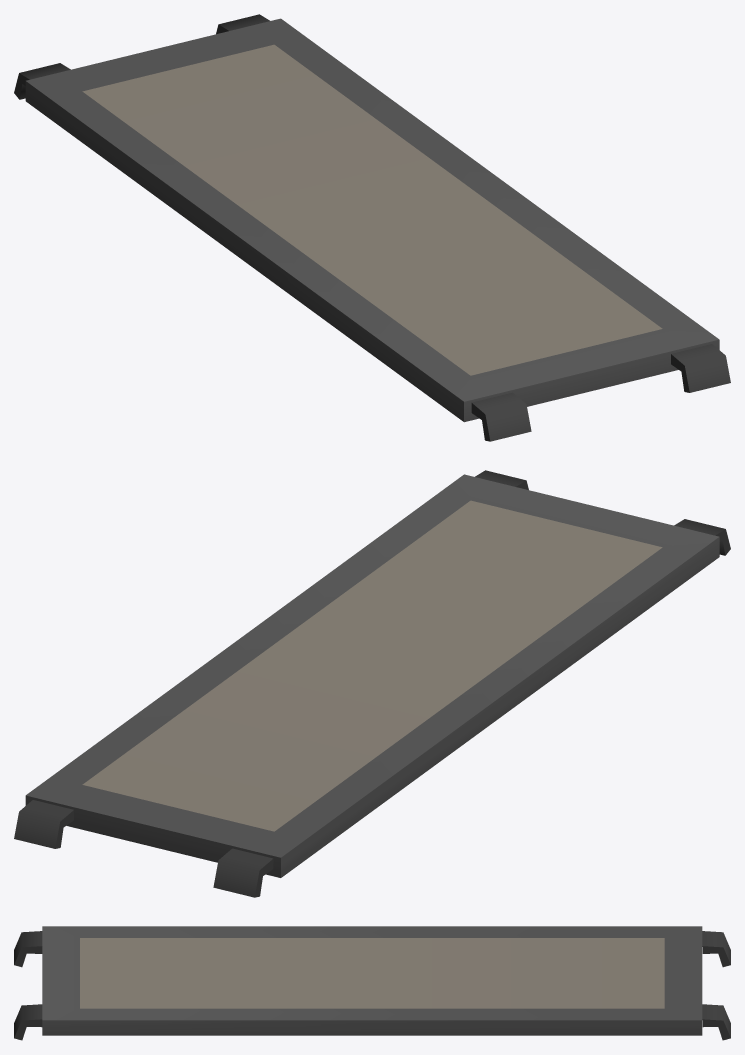
Rendered from Scaffolding_Plank_A.fbx.
3 renders of one model, top to bottom at view 1: azimuth 30°, elevation 25°; view 2: azimuth 150°, elevation 25°; view 3: azimuth 270°, elevation 25°, orthographic. The views are drawn at different scales.
Visible parts, largest first — view 1: Scaffolding_Plank_A; view 2: Scaffolding_Plank_A; view 3: Scaffolding_Plank_A.
Part boxes in pixels (left/top/right/bottom): Scaffolding_Plank_A: left=14, top=14, right=730, bottom=441; Scaffolding_Plank_A: left=14, top=470, right=730, bottom=897; Scaffolding_Plank_A: left=14, top=926, right=730, bottom=1040.
Size of the model in its own units: 65.43 by 7.53 by 211.
